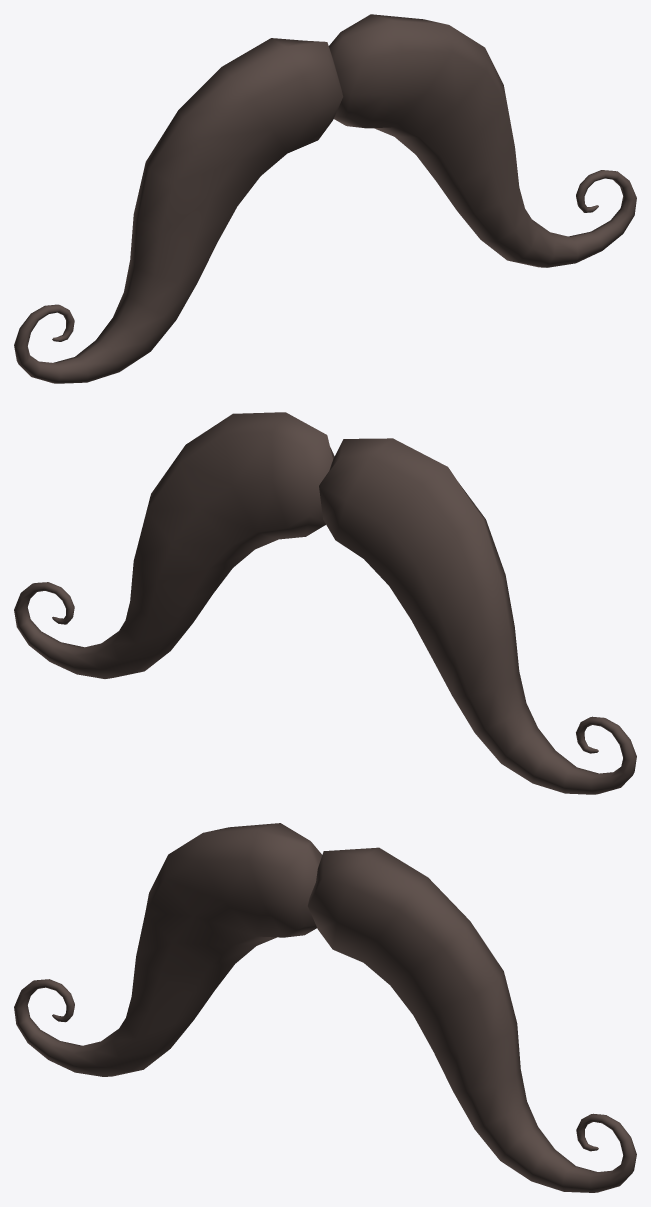
File: Mustache_04.glb
3 renders of one model, top to bottom at view 1: azimuth 30°, elevation 25°; view 2: azimuth 150°, elevation 25°; view 3: azimuth 330°, elevation 25°, orthographic.
Visible parts, largest first — view 1: Mustache_04; view 2: Mustache_04; view 3: Mustache_04.
Part boxes in pixels (x1=…): Mustache_04: x1=14, y1=14, x2=636, y2=383; Mustache_04: x1=14, y1=412, x2=636, y2=794; Mustache_04: x1=14, y1=823, x2=636, y2=1192.
Bounding box in the file's own units: 0.3286 × 0.1509 × 0.0438.
Materials: 1 (1 with a texture image).
